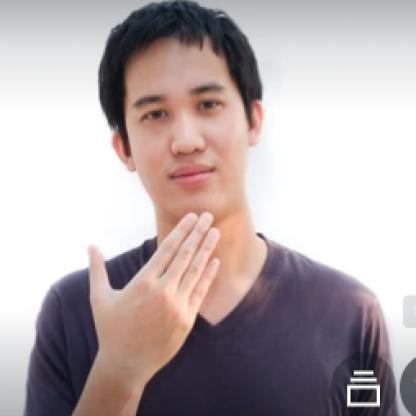thankyou: (59, 188, 239, 377)
